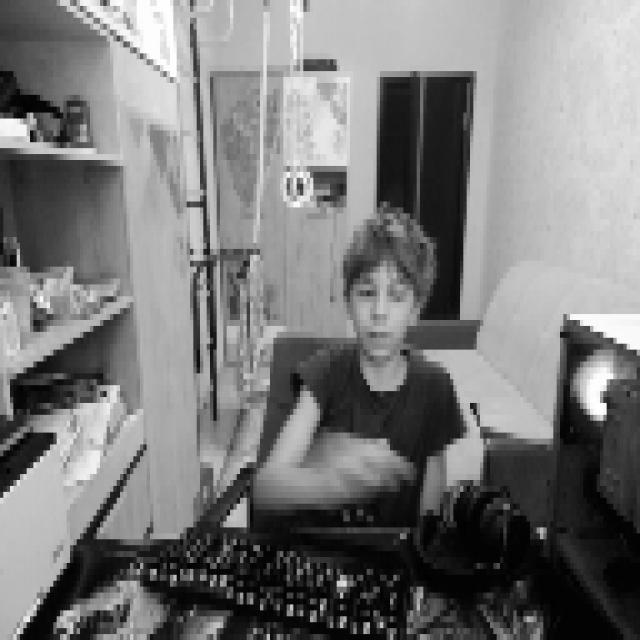hand: (317, 427, 413, 498)
